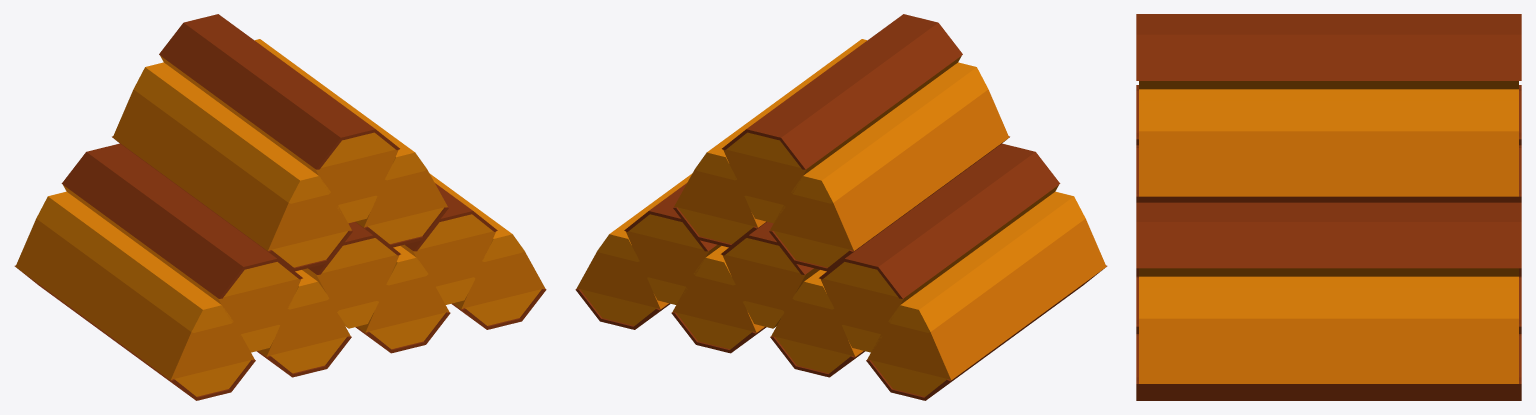
The model's file is Small Log_7.fbx.
3 views of the same model, side by side, from view 1: azimuth 30°, elevation 25°; view 2: azimuth 150°, elevation 25°; view 3: azimuth 270°, elevation 25° (orthographic). The views are drawn at different scales.
Visible parts, largest first — view 1: Circle.073; view 2: Circle.073; view 3: Circle.073.
Part boxes in pixels (<box>): Circle.073: <box>14,14,546,400</box>; Circle.073: <box>575,14,1107,400</box>; Circle.073: <box>1136,14,1521,400</box>.
Size of the model in its own units: 32.68 by 18.99 by 23.76.
